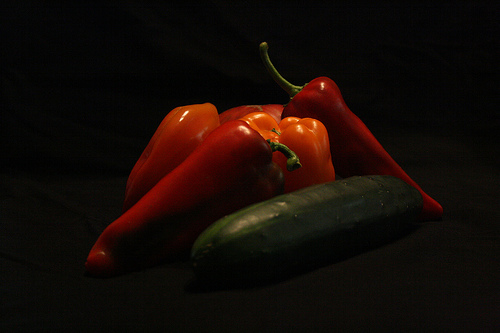cucumber: (187, 171, 425, 260)
